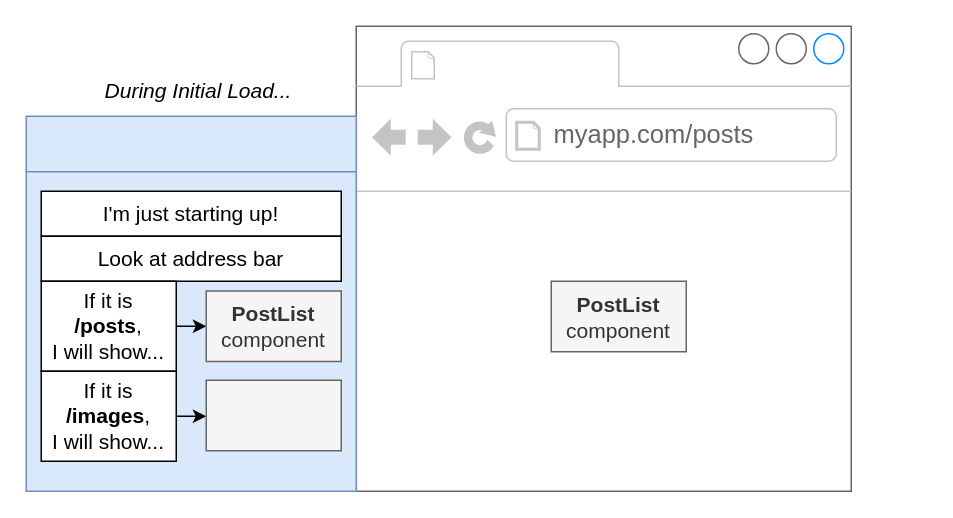
This 953x518 diagram has some shape labels left out. The box of each missing label's shape, as (x1, y1, x2, y2) in pixels:
ImageList component: (205, 379, 341, 451)
Page 1: (445, 43, 611, 83)
React App: (25, 115, 356, 172)
